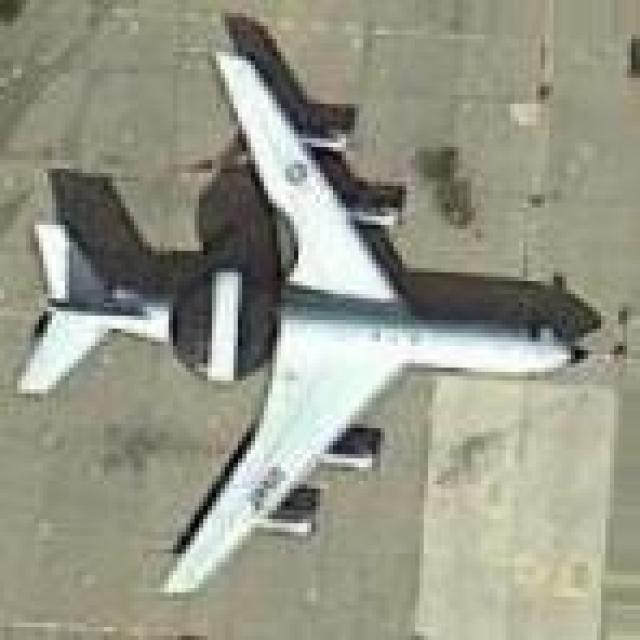E-3_TopDown: (13, 9, 605, 592)
